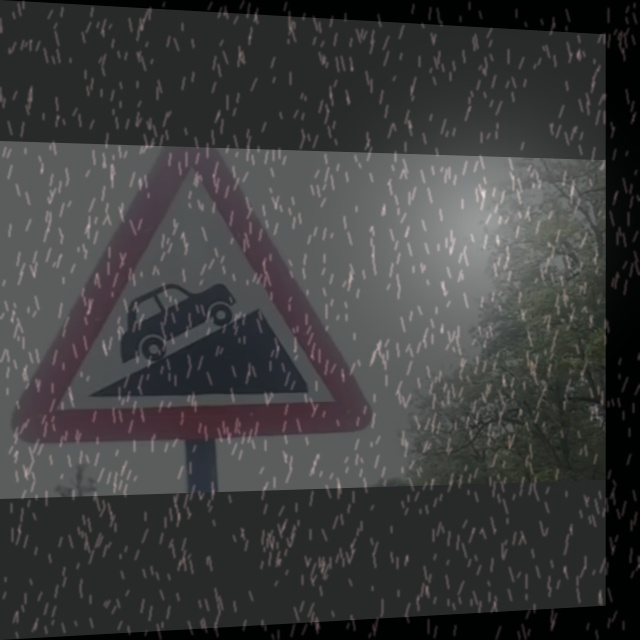Steep_Ascent: (49, 181, 349, 441)
